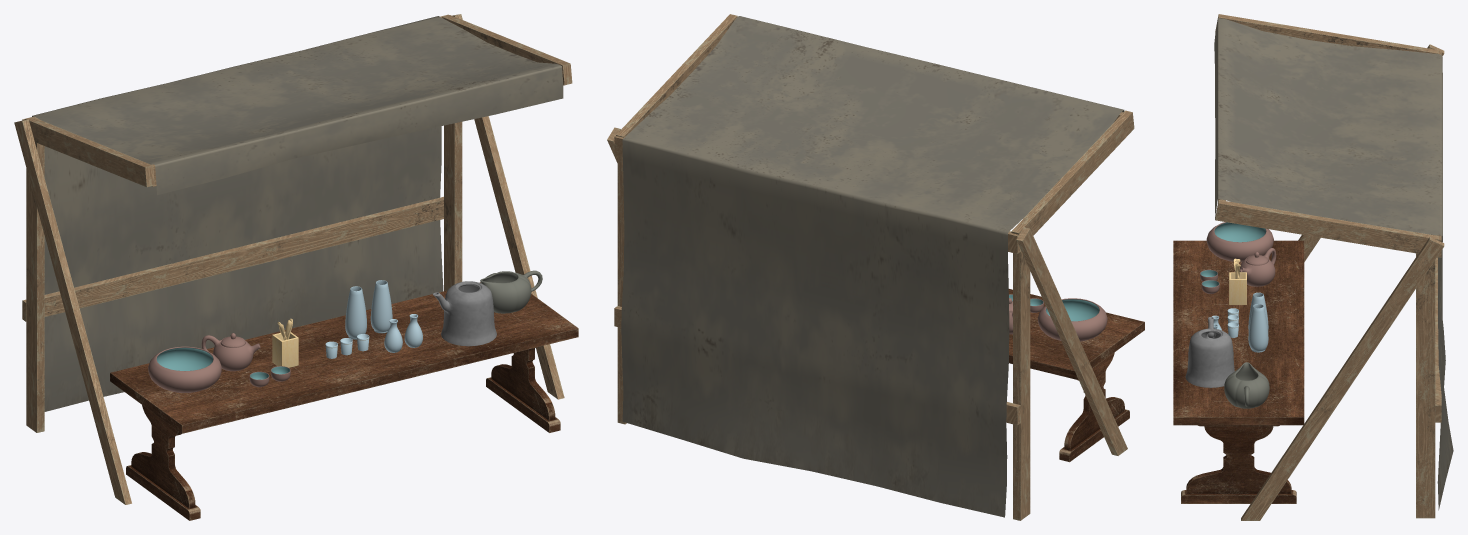
3 renders of one model, left to right at view 1: azimuth 30°, elevation 25°; view 2: azimuth 150°, elevation 25°; view 3: azimuth 270°, elevation 25°, orthographic. The views are drawn at different scales.
Parts seen in each view (by area): view 1: Plane_cloth, stand, table, Object_36, Object_198, Object_117, Object_114, Object_150, Object_120, Object_240; view 2: Plane_cloth, stand, table, Object_198; view 3: Plane_cloth, table, stand, Object_36, Object_198, Object_114, Object_117, Object_150, Object_240, Object_420.
Part boxes in pixels (x1=…): Plane_cloth: x1=32, y1=16, x2=563, y2=411; stand: x1=14, y1=14, x2=572, y2=504; table: x1=110, y1=282, x2=578, y2=520; Object_36: x1=432, y1=281, x2=496, y2=346; Object_198: x1=148, y1=346, x2=221, y2=392; Object_117: x1=345, y1=280, x2=392, y2=339; Object_114: x1=480, y1=270, x2=542, y2=313; Object_150: x1=201, y1=333, x2=260, y2=371; Object_120: x1=384, y1=314, x2=422, y2=352; Object_240: x1=272, y1=332, x2=298, y2=367; Plane_cloth: x1=621, y1=16, x2=1124, y2=517; stand: x1=607, y1=14, x2=1134, y2=520; table: x1=1008, y1=289, x2=1144, y2=462; Object_198: x1=1037, y1=298, x2=1107, y2=341; Plane_cloth: x1=1214, y1=18, x2=1453, y2=510; table: x1=1173, y1=240, x2=1304, y2=503; stand: x1=1215, y1=14, x2=1444, y2=520; Object_36: x1=1185, y1=317, x2=1234, y2=387; Object_198: x1=1206, y1=222, x2=1273, y2=262; Object_114: x1=1224, y1=362, x2=1269, y2=408; Object_117: x1=1248, y1=292, x2=1268, y2=352; Object_150: x1=1239, y1=248, x2=1276, y2=286; Object_240: x1=1229, y1=272, x2=1246, y2=304; Object_420: x1=1200, y1=269, x2=1219, y2=293.
Bounding box in the file's own units: 312 × 234 × 189.
